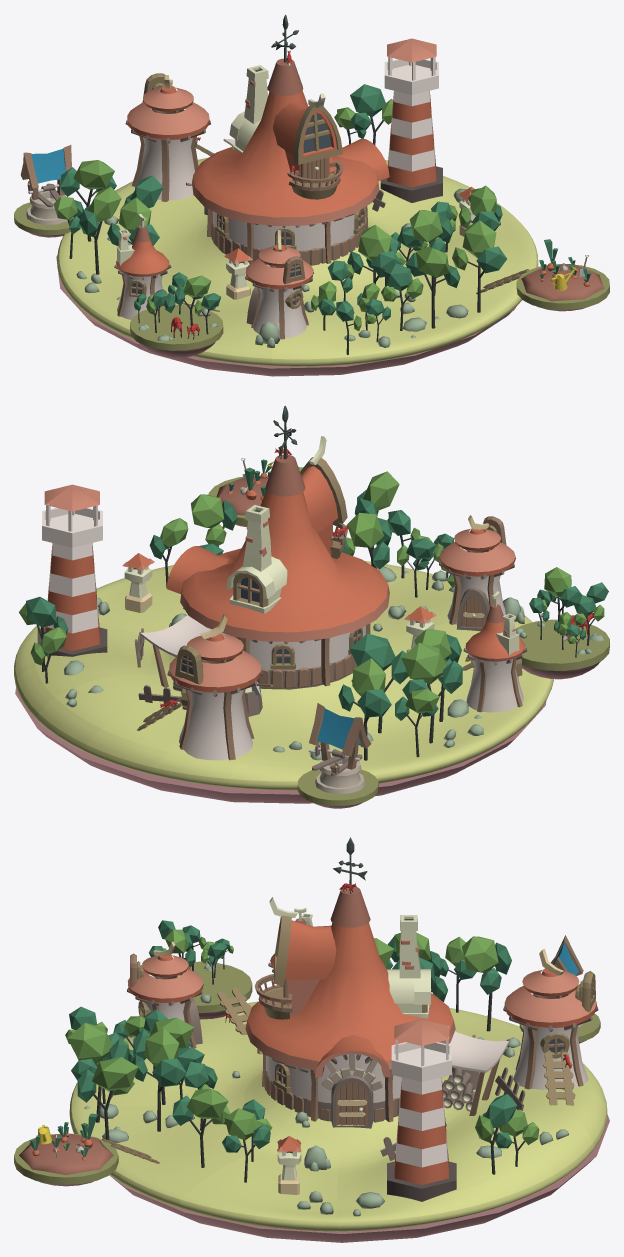
The picture shows the model from 3 angles, top to bottom: view 1: azimuth 30°, elevation 25°; view 2: azimuth 150°, elevation 25°; view 3: azimuth 270°, elevation 25°; orthographic projection. The views are drawn at different scales.
Visible parts, largest first — view 1: pCylinder11, polySurface11, Cylinder002, pSphere1, polySurface1188, polySurface12, polySurface345, polySurface16, polySurface342, polySurface1054, pCube205, polySurface840 (+32 smaller); view 2: pCylinder11, polySurface11, Cylinder002, pSphere1, polySurface345, polySurface1188, polySurface342, polySurface1122, polySurface12, polySurface1054, polySurface838, polySurface16 (+38 smaller); view 3: pCylinder11, polySurface11, Cylinder002, pSphere1, polySurface16, polySurface342, pCube205, polySurface1054, polySurface12, polySurface1188, polySurface345, polySurface838 (+32 smaller).
Boxes of the visible parts, <box> form: pCylinder11: <box>57,158,538,366</box>; polySurface11: <box>192,90,379,225</box>; Cylinder002: <box>384,59,438,187</box>; pSphere1: <box>56,255,516,376</box>; polySurface1188: <box>130,305,223,350</box>; polySurface12: <box>213,207,365,251</box>; polySurface345: <box>135,110,194,200</box>; polySurface16: <box>273,100,337,182</box>; polySurface342: <box>127,102,209,139</box>; polySurface1054: <box>334,84,392,145</box>; pCube205: <box>521,264,604,301</box>; polySurface840: <box>253,264,306,338</box>; pCylinder11: <box>14,560,553,790</box>; polySurface11: <box>180,490,389,641</box>; Cylinder002: <box>42,507,102,650</box>; pSphere1: <box>15,687,546,803</box>; polySurface345: <box>179,659,252,760</box>; polySurface1188: <box>516,619,609,670</box>; polySurface342: <box>169,650,261,692</box>; polySurface1122: <box>466,658,523,712</box>; polySurface12: <box>233,625,365,670</box>; polySurface1054: <box>19,596,68,683</box>; polySurface838: <box>439,542,515,576</box>; polySurface16: <box>301,466,338,556</box>; pCylinder11: <box>69,1001,607,1231</box>; polySurface11: <box>245,923,455,1070</box>; Cylinder002: <box>391,1042,451,1184</box>; pSphere1: <box>110,1114,609,1242</box>; polySurface16: <box>285,920,336,1015</box>; polySurface342: <box>504,986,596,1027</box>; pCube205: <box>19,1133,113,1174</box>; polySurface1054: <box>475,1094,539,1174</box>; polySurface12: <box>266,1054,401,1102</box>; polySurface1188: <box>180,961,252,1013</box>; polySurface345: <box>513,994,588,1089</box>; polySurface838: <box>128,968,202,1003</box>.
Bounding box in the file's own units: 0.5441 × 0.364 × 0.5839.
